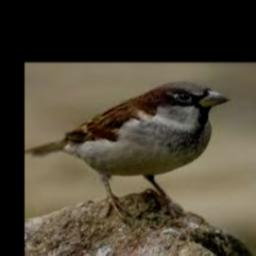Sparrow: (24, 82, 232, 219)
